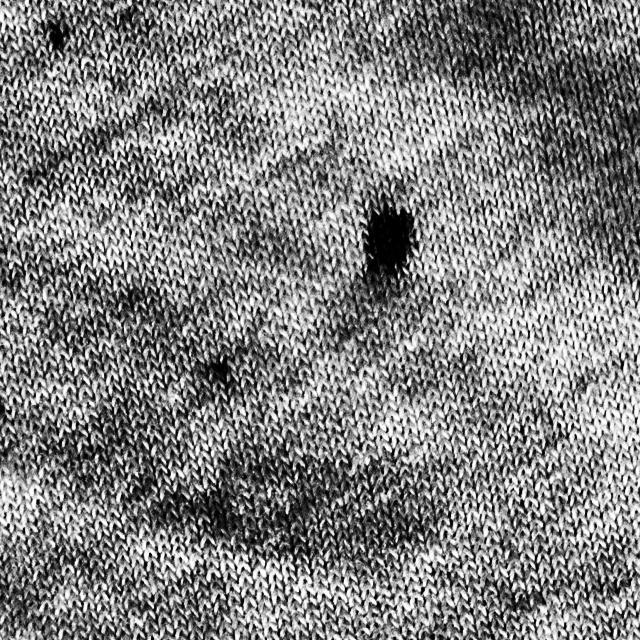Color_defect: (360, 197, 416, 280)
